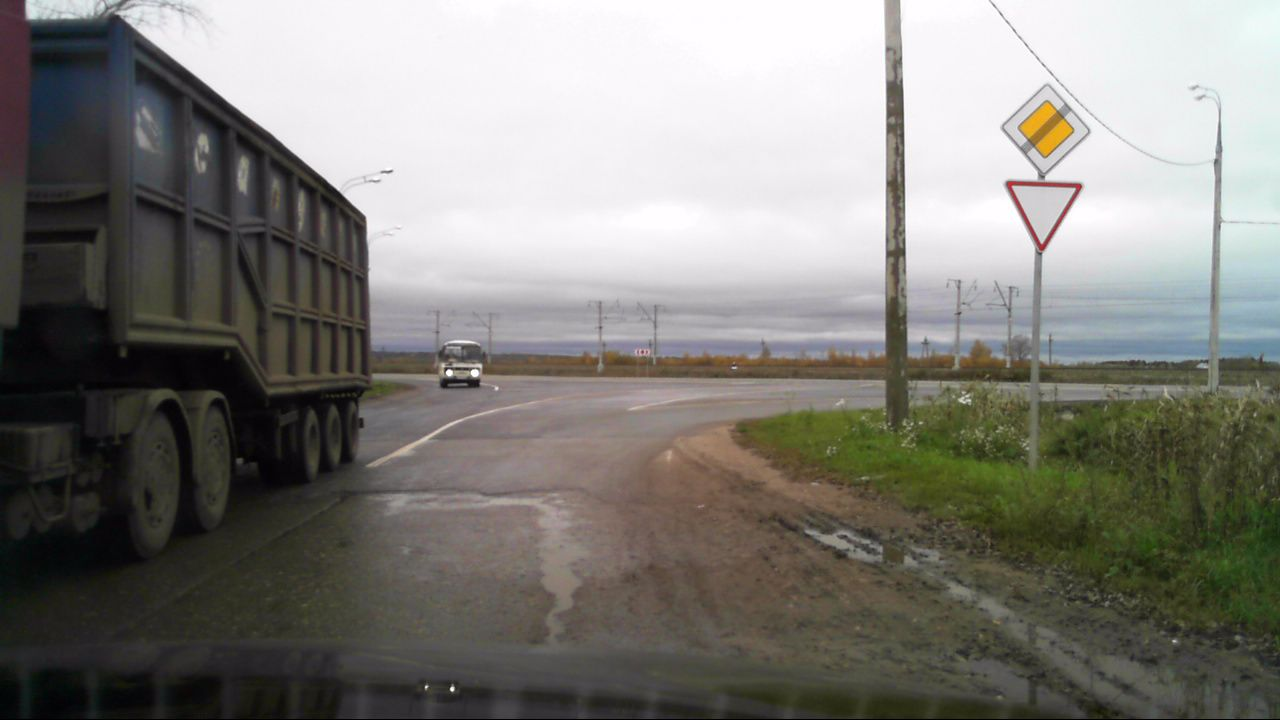main road: (998, 83, 1093, 181)
